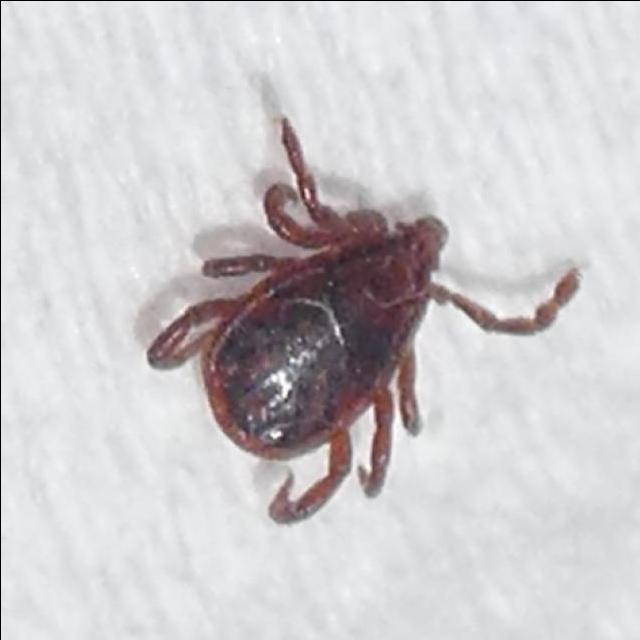Rhipicephalus Sanguineus-M: (143, 118, 579, 526)
